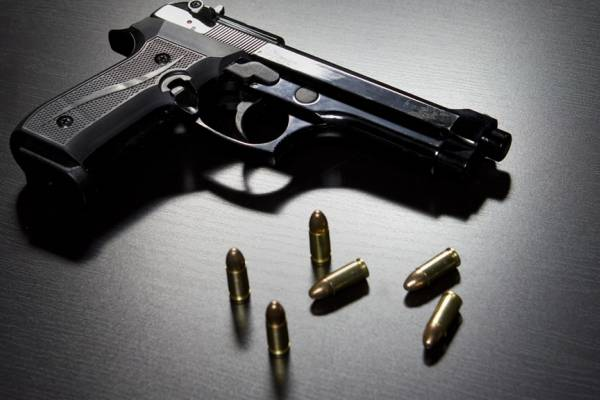Arma Real: (6, 1, 518, 201)
